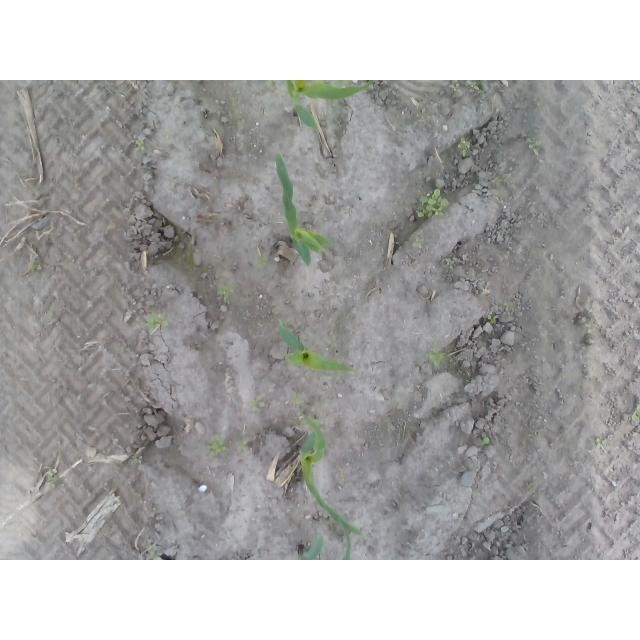Maize: (297, 412, 368, 537), (273, 152, 335, 268), (283, 80, 375, 130), (272, 321, 354, 375), (292, 532, 357, 561)
Weeds: (416, 187, 449, 217), (448, 80, 485, 94), (425, 346, 448, 366), (146, 311, 169, 330), (206, 434, 226, 455), (457, 138, 471, 159), (217, 287, 236, 302), (248, 398, 264, 414), (527, 137, 541, 155), (47, 468, 58, 489), (133, 137, 146, 153), (256, 255, 268, 270), (31, 257, 42, 273), (289, 392, 303, 404), (631, 403, 640, 420), (363, 80, 378, 90), (239, 442, 249, 455), (413, 239, 424, 250), (595, 437, 606, 448), (445, 260, 456, 270), (488, 314, 497, 326), (133, 455, 143, 465), (493, 176, 503, 185), (482, 437, 492, 446), (264, 81, 275, 88), (505, 303, 512, 312)
